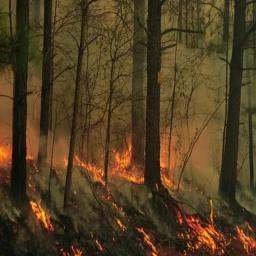Low smoke: (0, 0, 252, 197)
Medium fire: (0, 73, 255, 255)
